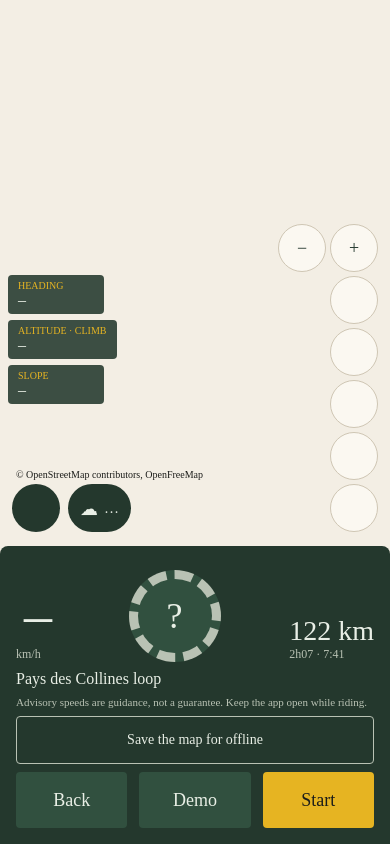
Test case: while riding the buttons are folded away and the grabber offers them
The image size is (390, 844).
Step 1. Click the button "Demo" → click(195, 800), box [139,772,251,828]
Wait 1000 ms
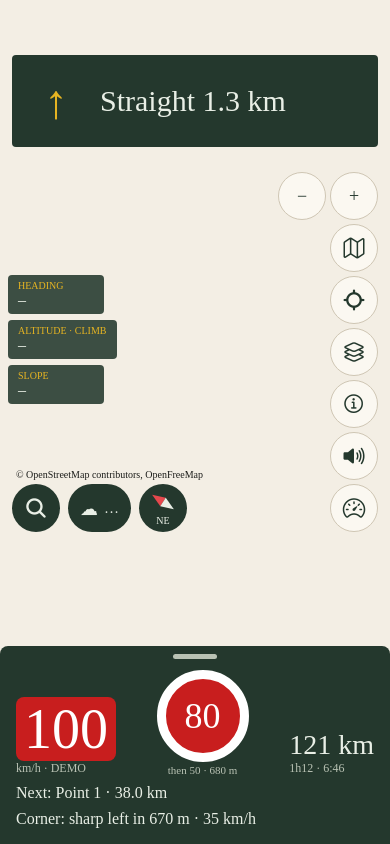
Expected: the button "Back" is gone
Expected: the button named "Show the ride buttons" is shown, [112,646,278,694]
Expected: the button named "Follow me" is shown, [330,276,378,324]
